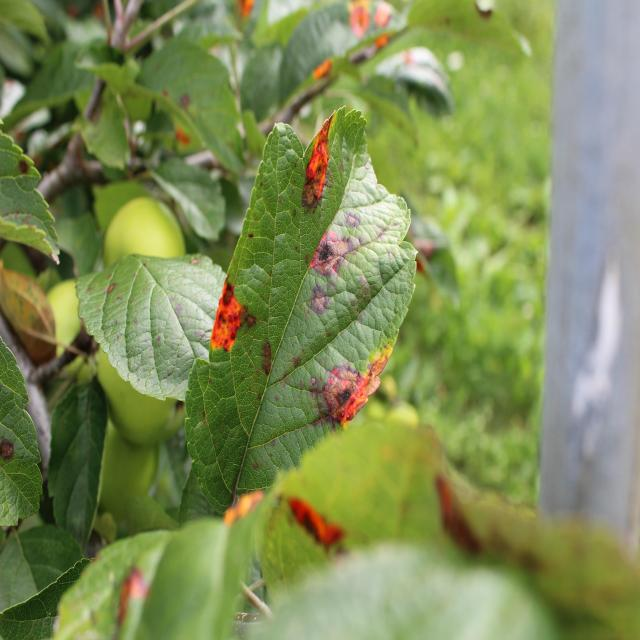Rust: (260, 478, 352, 560), (290, 85, 342, 215), (322, 358, 396, 434), (207, 276, 246, 364)
